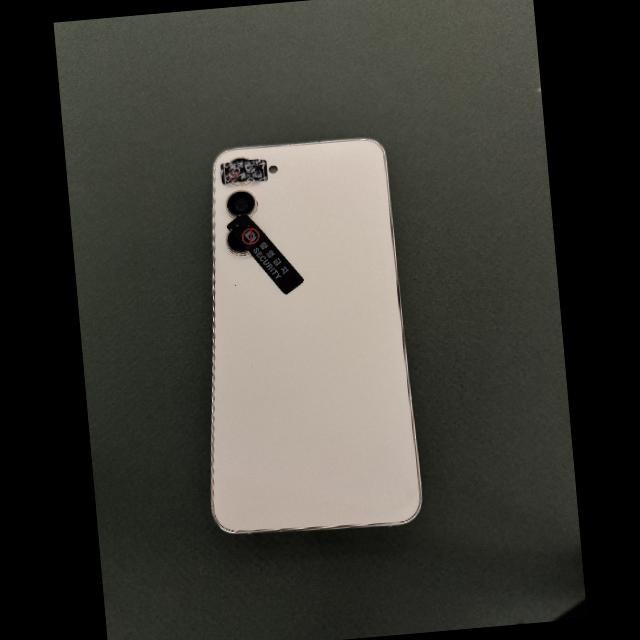lens: (227, 191, 255, 216), (226, 230, 250, 257), (231, 158, 248, 163)
phone: (211, 139, 421, 533)
sticker: (225, 213, 304, 294)
